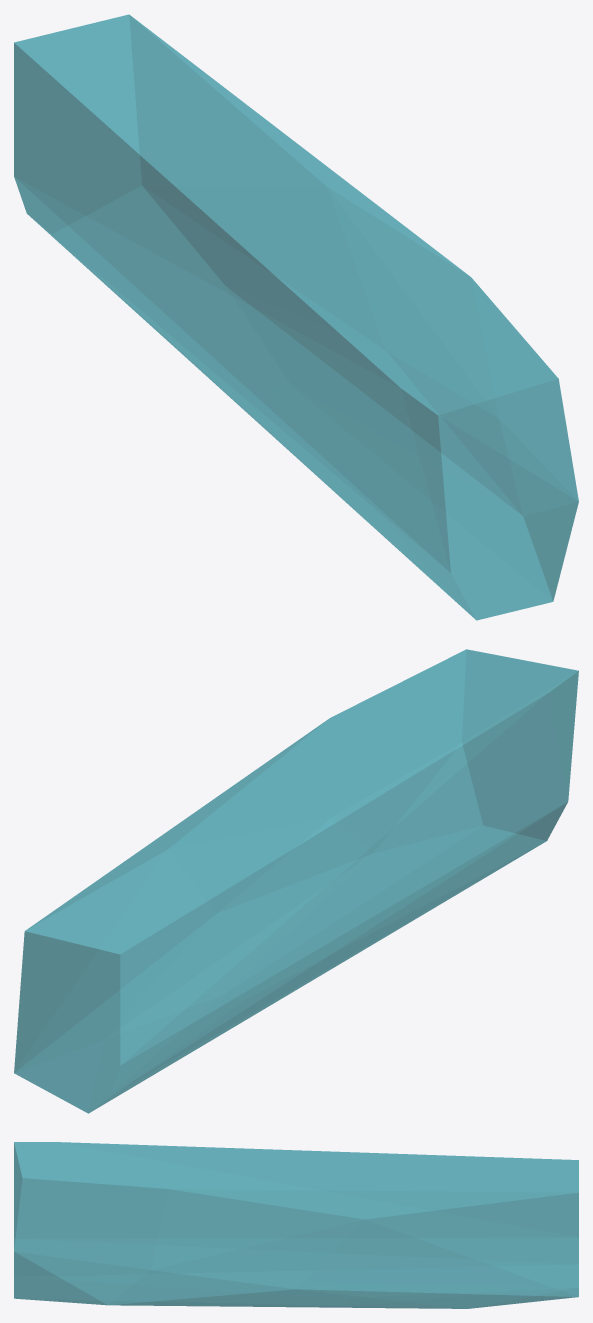
The picture shows the model from 3 angles, top to bottom: view 1: azimuth 30°, elevation 25°; view 2: azimuth 150°, elevation 25°; view 3: azimuth 270°, elevation 25°; orthographic projection. The views are drawn at different scales.
Parts seen in each view (by area): view 1: Shape_IndexedFaceSet.031_Shape_IndexedFaceSet.7637; view 2: Shape_IndexedFaceSet.031_Shape_IndexedFaceSet.7637; view 3: Shape_IndexedFaceSet.031_Shape_IndexedFaceSet.7637.
Part boxes in pixels (x1,y1,x2,y2): Shape_IndexedFaceSet.031_Shape_IndexedFaceSet.7637: (14,14,578,620); Shape_IndexedFaceSet.031_Shape_IndexedFaceSet.7637: (14,649,578,1113); Shape_IndexedFaceSet.031_Shape_IndexedFaceSet.7637: (14,1142,578,1308).
Size of the model in its own units: 0.0307 by 0.0327 by 0.1349.
